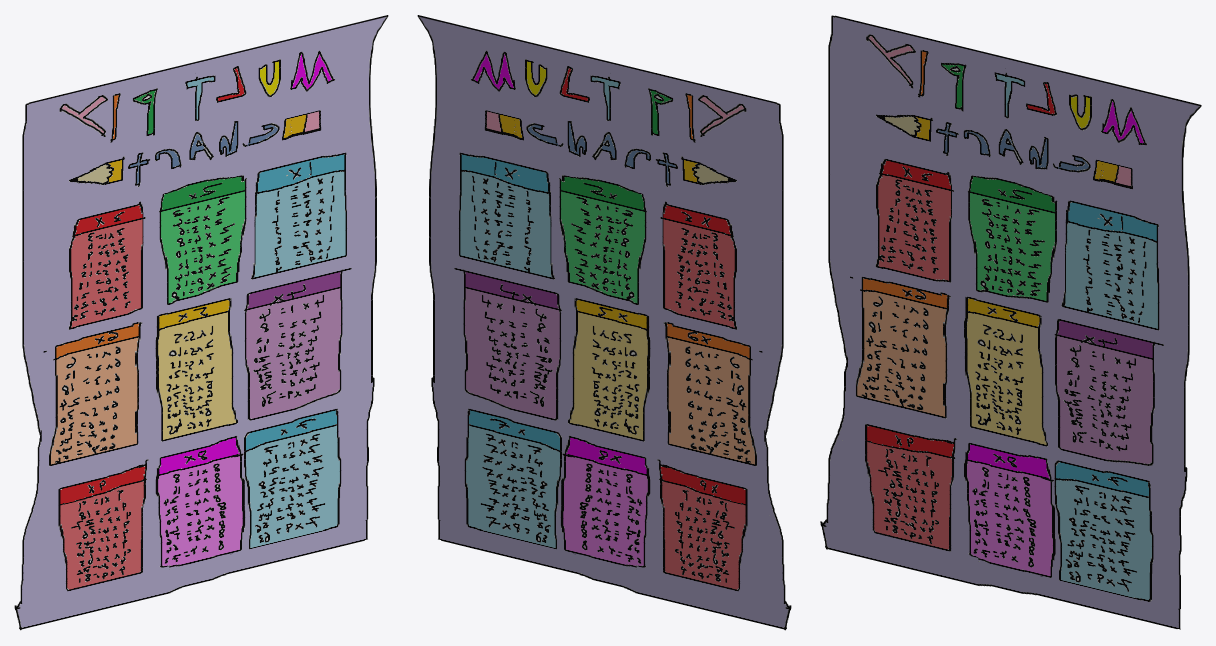
File: poster1.fbx
3 renders of one model, left to right at view 1: azimuth 30°, elevation 25°; view 2: azimuth 150°, elevation 25°; view 3: azimuth 330°, elevation 25°, orthographic.
Visible parts, largest first — view 1: Cube; view 2: Cube; view 3: Cube.
Part boxes in pixels (bbox=[...]): Cube: bbox=[14, 15, 388, 630]; Cube: bbox=[417, 15, 791, 630]; Cube: bbox=[820, 15, 1201, 629].
Size of the model in its own units: 426 by 574 by 9.36e-05.
